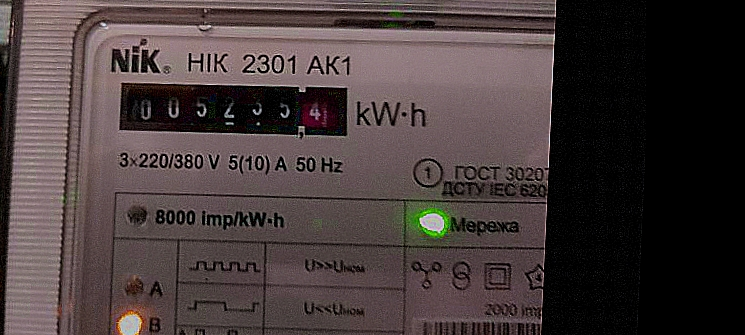0: (137, 95, 153, 121), (165, 94, 181, 119)
2: (220, 93, 237, 120)
3: (247, 91, 265, 117)
4: (305, 94, 324, 124)
5: (275, 91, 292, 120), (193, 93, 208, 118)
screen: (105, 66, 358, 149)
